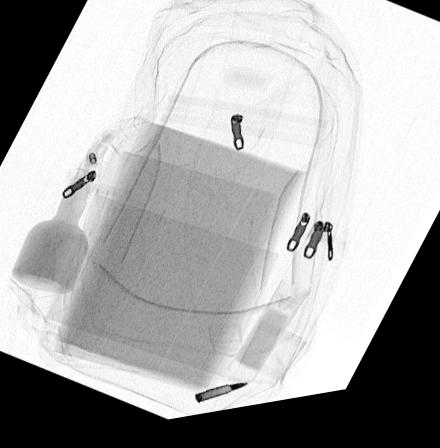Bullet: (193, 389, 249, 410)
